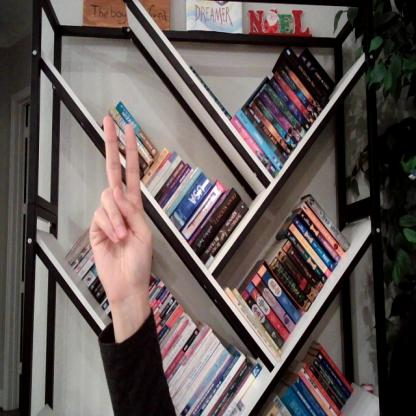two: (87, 109, 156, 299)
